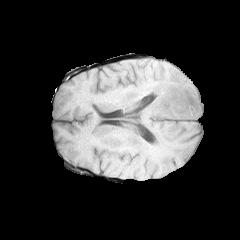glioma: (96, 69, 201, 147)
